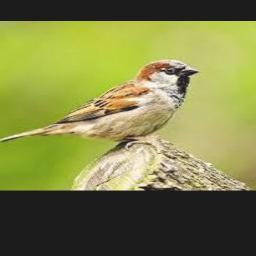Sparrow: (0, 59, 200, 150)
